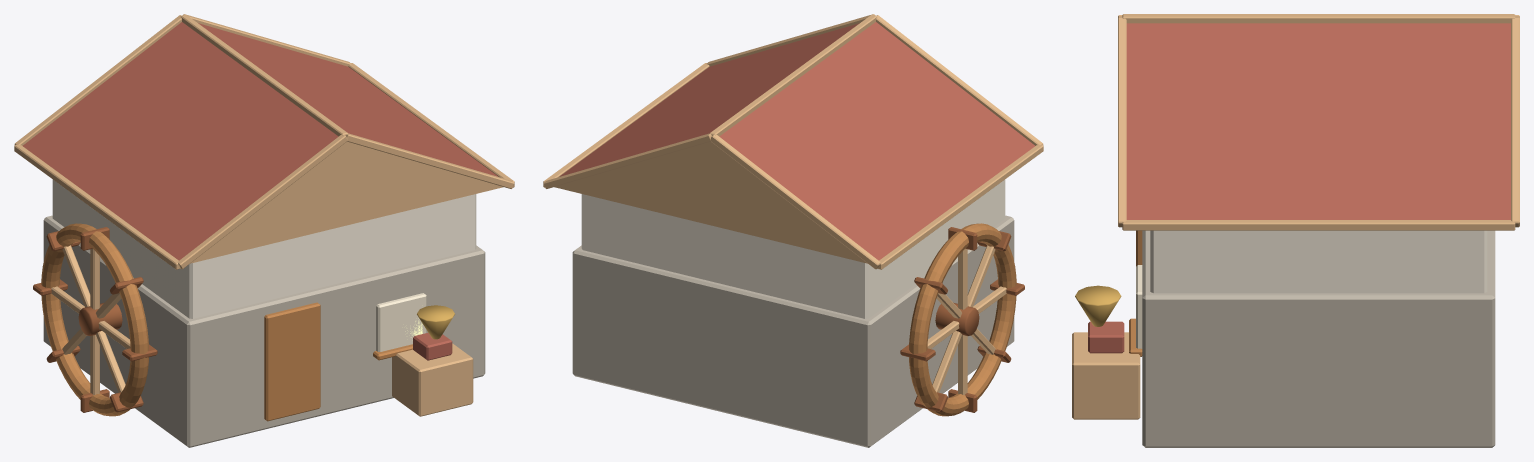
The picture shows the model from 3 angles, left to right: view 1: azimuth 30°, elevation 25°; view 2: azimuth 150°, elevation 25°; view 3: azimuth 270°, elevation 25°; orthographic projection. The views are drawn at different scales.
Visible parts, largest first — view 1: Mill_Roof, Stone_Lower, Timber_Upper, honey_wood, warm_cedar, toasted_wood, Win_Frame, Brass_Horn, Phono_Box; view 2: Mill_Roof, Stone_Lower, Timber_Upper, honey_wood, warm_cedar, toasted_wood; view 3: Mill_Roof, Stone_Lower, Timber_Upper, honey_wood, Brass_Horn, Phono_Box, Win_Frame, warm_cedar.
Boxes of the visible parts, <box> form: Mill_Roof: <box>23,22,503,263</box>; Stone_Lower: <box>43,215,485,447</box>; Timber_Upper: <box>52,179,476,318</box>; honey_wood: <box>14,14,514,416</box>; warm_cedar: <box>41,223,412,421</box>; toasted_wood: <box>33,227,157,412</box>; Win_Frame: <box>376,293,426,351</box>; Brass_Horn: <box>417,305,454,339</box>; Phono_Box: <box>413,333,452,360</box>; Mill_Roof: <box>554,22,1034,263</box>; Stone_Lower: <box>572,215,1014,447</box>; Timber_Upper: <box>581,179,1005,318</box>; honey_wood: <box>543,14,1043,395</box>; warm_cedar: <box>909,223,1016,416</box>; toasted_wood: <box>900,227,1024,412</box>; Mill_Roof: <box>1126,23,1510,219</box>; Stone_Lower: <box>1142,230,1495,447</box>; Timber_Upper: <box>1150,230,1487,293</box>; honey_wood: <box>1072,14,1519,419</box>; Brass_Horn: <box>1075,285,1121,326</box>; Phono_Box: <box>1088,321,1124,353</box>; Win_Frame: <box>1136,265,1142,348</box>; warm_cedar: <box>1129,230,1142,356</box>.
Bounding box in the file's own units: 6.14 × 4.9 × 5.58.
